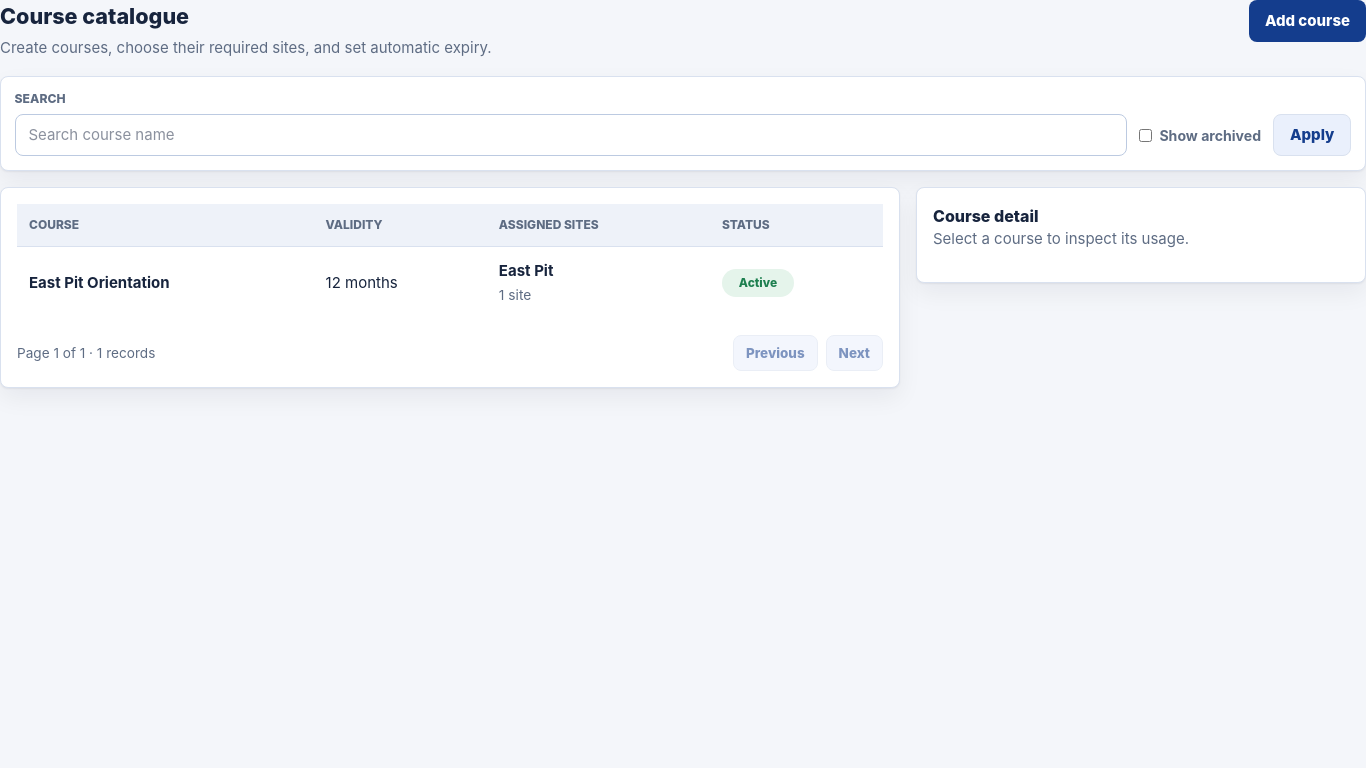
Test: ManageCourses › opens completion comments from course history without showing them inline
This screenshot has width=1366, height=768.
Click the row "East Pit Orientation 12 months East Pit 1 site Active": x=99, y=282 [17,246,883,319]
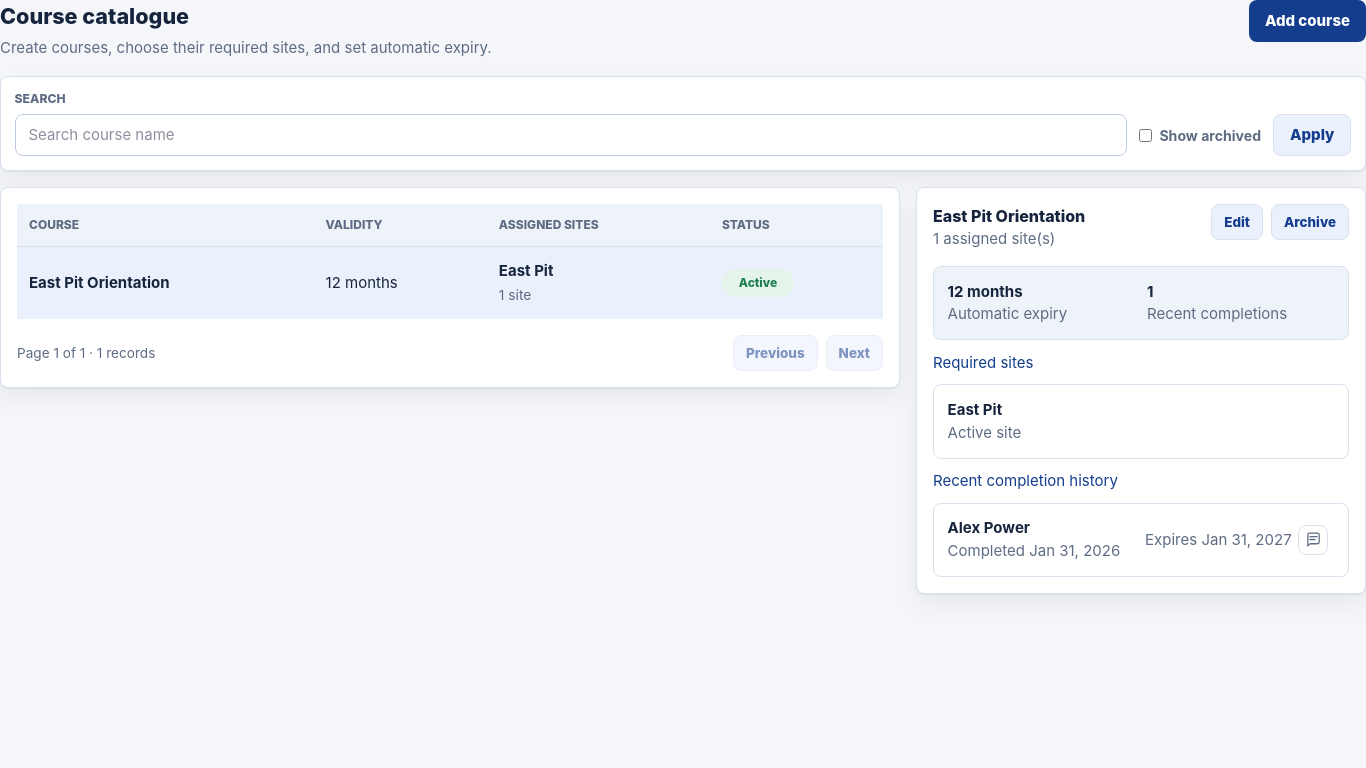
Expected: the element with class "requirement-row" does not show "Certificate verified by site supervisor."
Now the element with class "requirement-row" shows "Alex Power", box [948,518,1030,537]
Click the button named "View completion comment for Alex Power": x=1313, y=540 [1298,525,1328,555]
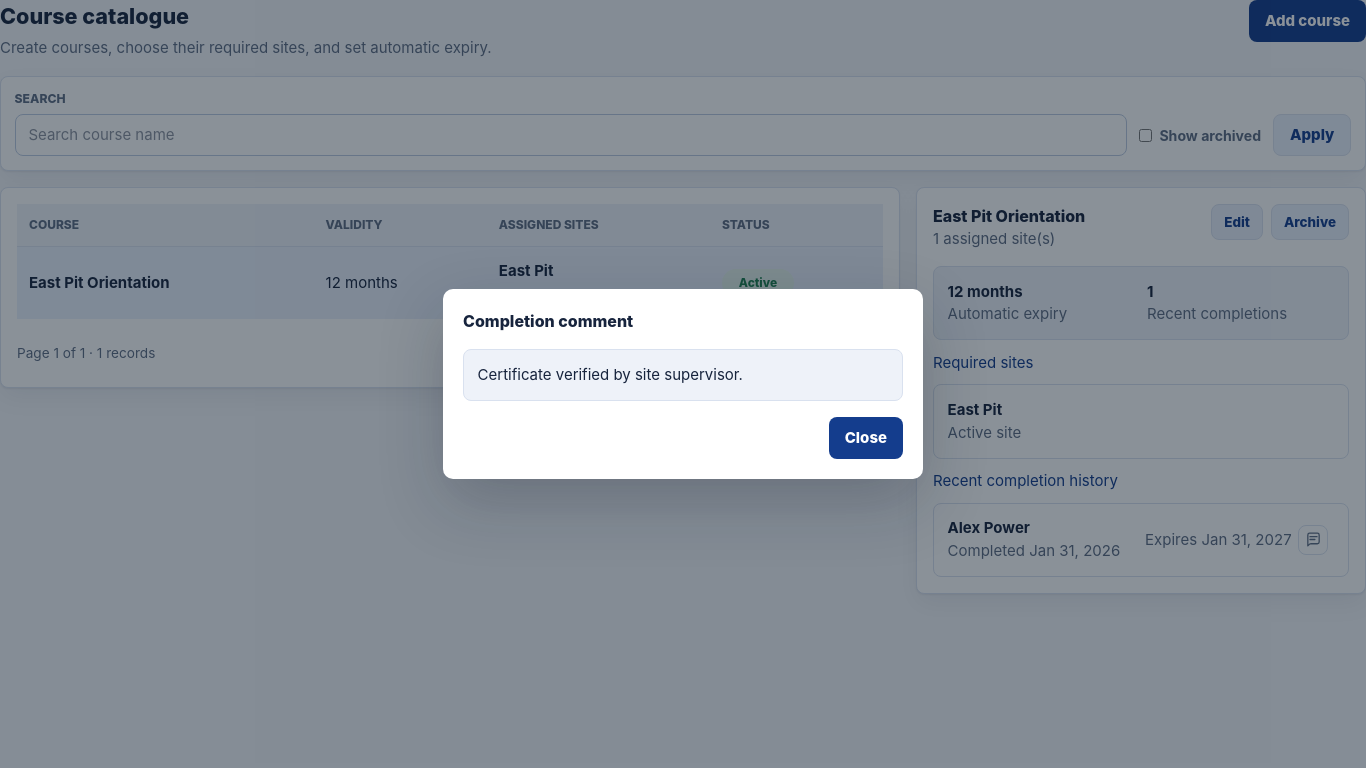
Now the dialog with class "comment-dialog" shows "Certificate verified by site supervisor.", box [478,365,743,384]
